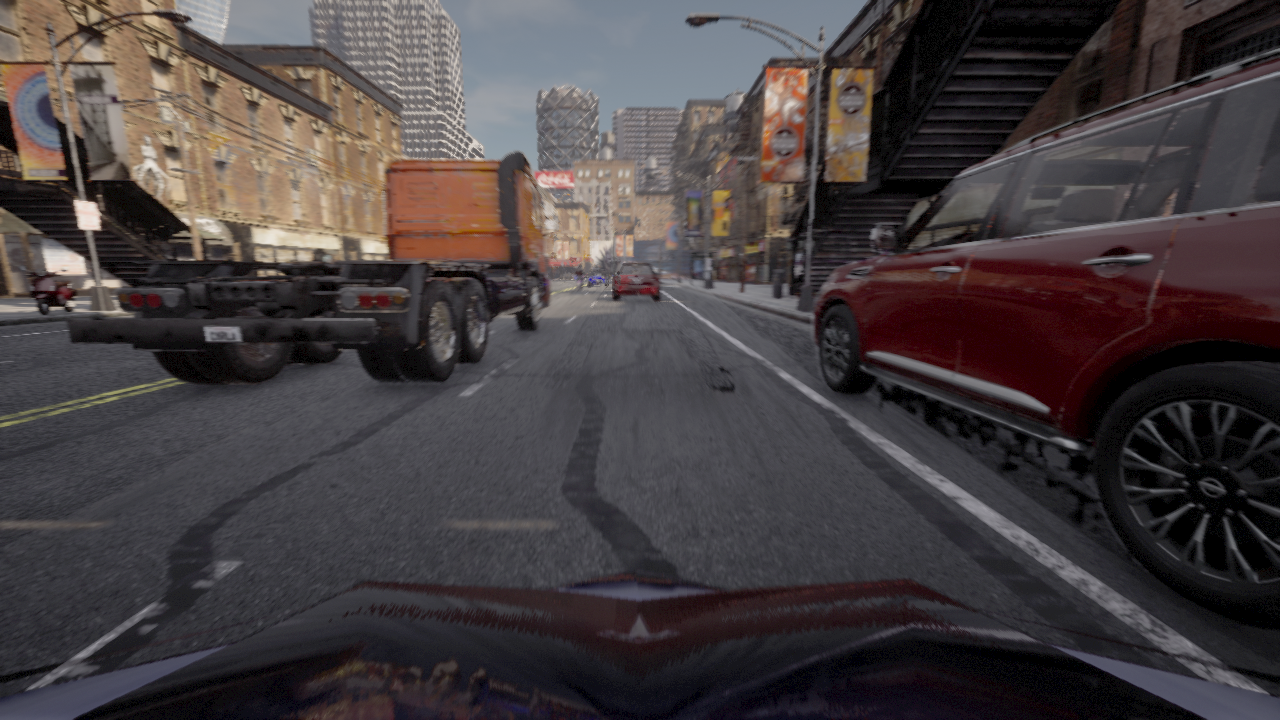cyclist: (813, 47, 1279, 629), (0, 569, 1279, 719), (67, 151, 556, 383), (20, 266, 75, 314), (613, 262, 660, 300), (588, 270, 608, 286), (578, 280, 582, 289), (583, 273, 587, 279), (574, 275, 576, 279)
